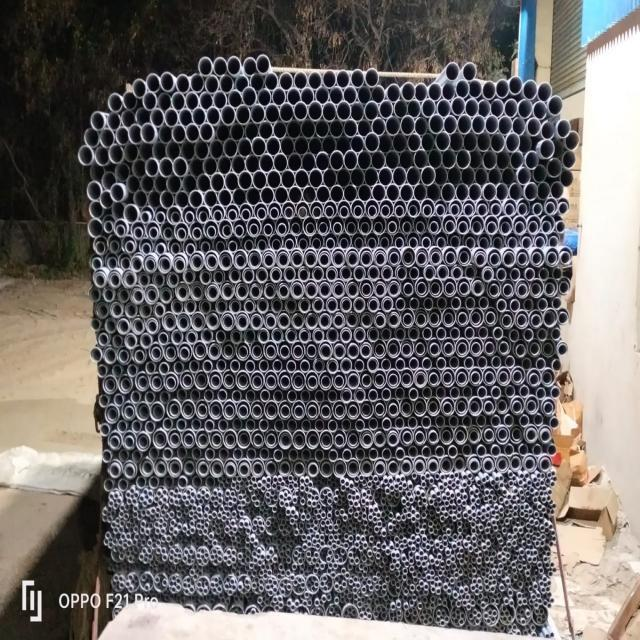pipe: (322, 252, 503, 419), (366, 273, 563, 408), (117, 210, 245, 407), (383, 232, 533, 389), (252, 189, 390, 351), (279, 156, 415, 292), (352, 93, 462, 230), (344, 172, 466, 294), (427, 77, 557, 185), (336, 258, 411, 442), (415, 442, 495, 595), (294, 112, 399, 227), (360, 147, 436, 298), (358, 501, 455, 614), (374, 210, 456, 338), (451, 377, 543, 485), (334, 511, 416, 628), (401, 490, 490, 597), (313, 503, 391, 625), (460, 553, 568, 640), (372, 459, 448, 572), (450, 248, 531, 346), (308, 310, 377, 425), (468, 518, 557, 606), (294, 505, 404, 569), (369, 335, 439, 432), (449, 319, 496, 449), (324, 444, 391, 534), (506, 118, 544, 273), (431, 74, 513, 145), (393, 105, 478, 170), (353, 185, 408, 279), (327, 486, 378, 584), (192, 423, 252, 506), (245, 421, 327, 475), (404, 513, 476, 573), (498, 327, 542, 424), (213, 331, 268, 405), (435, 101, 487, 174), (296, 402, 353, 463), (393, 139, 441, 208), (354, 272, 397, 340), (129, 448, 179, 503), (447, 122, 502, 171), (419, 314, 444, 421), (167, 462, 222, 505), (456, 361, 511, 404), (496, 185, 524, 269), (127, 475, 188, 512), (346, 108, 386, 164), (484, 526, 532, 572), (121, 395, 174, 436), (255, 431, 300, 479), (264, 598, 376, 615), (218, 461, 268, 498), (165, 421, 200, 473), (190, 537, 223, 588), (203, 349, 237, 397), (158, 541, 194, 586), (474, 258, 500, 312), (177, 341, 212, 379), (273, 250, 313, 283), (133, 486, 164, 527), (136, 371, 160, 422), (175, 317, 218, 345), (109, 496, 138, 536), (244, 262, 290, 287), (137, 242, 168, 278), (241, 294, 270, 331), (238, 133, 271, 165), (133, 287, 164, 321), (293, 209, 316, 254), (529, 239, 544, 308), (185, 391, 203, 448), (165, 228, 195, 262), (84, 182, 115, 214), (193, 514, 221, 549), (169, 550, 199, 582), (138, 396, 166, 430), (163, 91, 186, 131), (125, 274, 152, 307), (515, 143, 549, 169), (244, 262, 286, 283), (261, 291, 286, 326), (151, 356, 178, 388), (112, 561, 138, 594), (219, 228, 243, 263), (495, 197, 537, 217), (513, 438, 522, 530), (184, 512, 203, 555), (186, 107, 211, 139), (93, 214, 118, 246), (187, 298, 209, 334), (204, 560, 228, 593), (231, 118, 254, 152), (123, 296, 149, 326), (125, 414, 150, 445), (267, 129, 286, 169), (257, 190, 280, 223), (131, 298, 154, 331), (259, 244, 288, 270), (98, 314, 124, 343), (157, 280, 172, 330), (101, 376, 133, 399), (194, 247, 219, 276), (175, 127, 199, 157), (507, 97, 519, 157), (204, 186, 227, 217), (521, 302, 531, 371), (234, 66, 255, 98), (86, 141, 107, 173), (241, 182, 257, 224), (94, 284, 120, 309), (156, 229, 192, 247), (456, 555, 474, 590), (284, 503, 308, 529), (257, 341, 280, 368), (112, 330, 134, 358), (176, 69, 195, 101), (172, 381, 195, 407), (134, 524, 160, 547), (200, 154, 218, 187), (231, 291, 248, 325), (269, 81, 288, 111), (222, 340, 242, 368), (192, 271, 212, 298), (193, 322, 216, 345), (117, 263, 148, 280), (111, 117, 132, 142), (187, 366, 212, 387), (234, 544, 249, 579), (93, 386, 122, 404), (200, 135, 224, 156), (187, 489, 215, 507), (107, 295, 126, 321), (195, 212, 224, 229), (120, 179, 132, 219), (290, 368, 308, 394), (102, 91, 124, 112), (298, 113, 309, 155), (182, 261, 203, 283), (96, 333, 116, 356), (139, 186, 163, 205), (132, 119, 150, 144), (117, 146, 135, 171), (106, 291, 121, 321), (259, 560, 277, 585), (204, 546, 225, 567), (266, 210, 286, 232), (102, 169, 120, 193), (122, 273, 146, 291), (252, 220, 272, 241), (167, 480, 182, 508), (311, 502, 326, 530), (97, 228, 123, 244), (286, 228, 309, 246), (290, 211, 314, 228), (273, 333, 297, 350), (147, 204, 158, 241), (232, 135, 245, 166), (197, 229, 228, 242), (236, 179, 261, 195), (180, 145, 197, 168), (129, 108, 155, 123), (114, 227, 130, 251), (170, 132, 183, 161), (250, 307, 265, 332), (336, 102, 352, 125), (135, 338, 146, 371), (400, 82, 418, 102), (194, 98, 209, 122), (261, 165, 281, 183), (187, 388, 207, 406), (232, 335, 244, 365), (126, 222, 143, 243), (101, 257, 117, 279), (116, 512, 129, 539), (114, 426, 128, 451), (440, 397, 455, 420), (305, 223, 324, 241), (373, 282, 390, 302), (413, 278, 430, 298), (315, 151, 331, 172), (420, 165, 436, 186), (360, 246, 375, 268), (229, 515, 242, 540), (223, 86, 232, 122), (211, 73, 265, 79), (266, 138, 283, 157), (272, 129, 292, 145), (365, 66, 380, 87), (292, 428, 305, 452), (157, 102, 174, 120), (293, 101, 309, 120), (216, 296, 232, 315), (319, 430, 334, 450), (367, 353, 382, 373), (365, 134, 380, 154), (344, 185, 359, 205), (258, 551, 285, 562), (250, 400, 264, 421), (127, 247, 144, 264), (339, 388, 355, 406), (301, 75, 314, 97), (372, 428, 387, 447), (147, 73, 166, 88), (323, 69, 337, 89), (230, 504, 250, 518), (500, 227, 505, 282), (408, 198, 421, 219), (401, 147, 414, 168), (194, 72, 211, 88), (151, 81, 168, 97), (177, 565, 194, 581), (400, 369, 415, 387), (148, 345, 175, 355), (199, 53, 213, 72), (444, 117, 457, 137), (395, 264, 410, 281), (169, 213, 180, 236), (185, 173, 203, 187), (306, 157, 318, 178), (268, 533, 289, 545), (96, 255, 106, 280), (447, 62, 460, 81), (250, 373, 265, 389), (378, 169, 394, 184), (120, 338, 136, 353), (102, 137, 116, 154), (139, 155, 156, 169), (254, 101, 269, 116), (243, 352, 258, 367), (91, 114, 107, 128), (313, 385, 325, 403), (394, 356, 408, 371), (133, 77, 143, 98), (354, 328, 366, 345), (162, 169, 171, 191), (433, 387, 448, 400), (429, 344, 442, 359), (299, 328, 312, 343), (394, 296, 407, 311), (407, 235, 419, 251), (285, 74, 298, 88), (308, 461, 320, 476), (147, 210, 156, 229), (374, 314, 386, 328), (215, 358, 227, 372), (234, 248, 242, 269), (341, 449, 354, 461), (133, 172, 146, 184), (202, 251, 211, 268), (375, 462, 385, 477), (423, 414, 433, 429), (124, 212, 134, 227), (288, 179, 296, 197), (182, 190, 191, 205), (155, 141, 166, 153), (218, 419, 228, 432), (201, 93, 211, 106), (129, 543, 137, 559), (252, 182, 264, 192), (260, 52, 268, 66), (293, 200, 304, 210), (255, 519, 265, 527), (326, 554, 333, 565), (242, 578, 251, 586), (224, 102, 227, 126), (334, 523, 341, 533), (386, 547, 391, 558), (368, 512, 373, 522), (223, 372, 224, 417), (280, 494, 285, 501), (194, 299, 228, 300), (287, 558, 292, 564), (315, 581, 318, 589)
